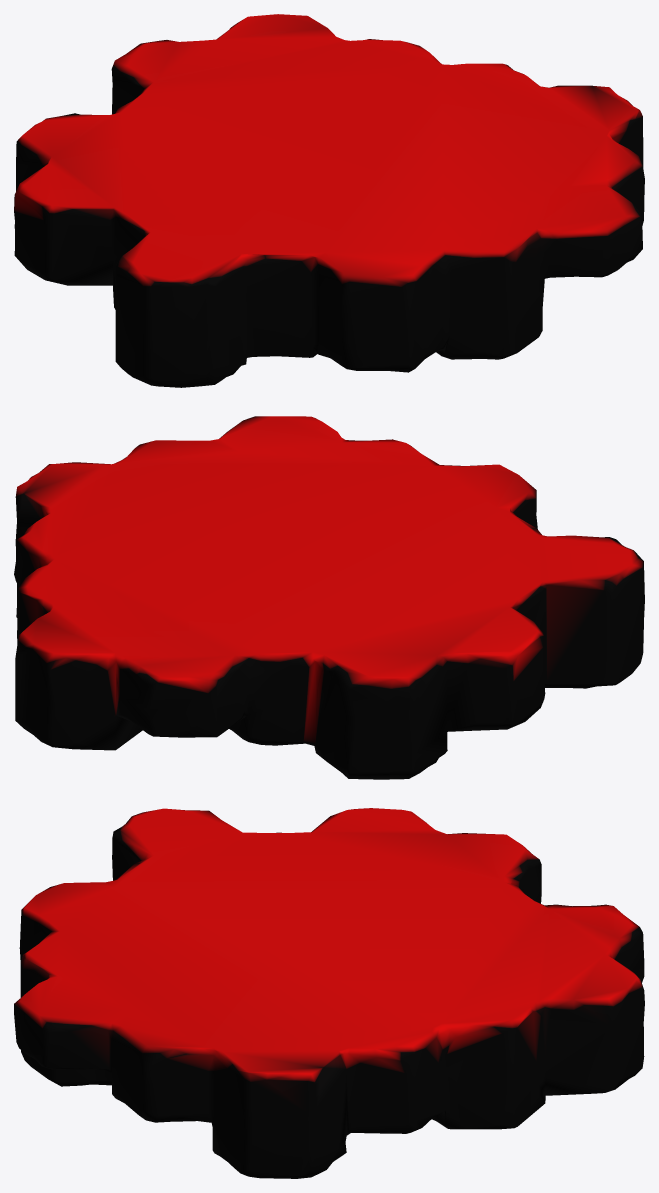
The model's file is SM_Cliff_4.FBX.
3 renders of one model, top to bottom at view 1: azimuth 30°, elevation 25°; view 2: azimuth 150°, elevation 25°; view 3: azimuth 270°, elevation 25°, orthographic.
Parts seen in each view (by area): view 1: SM_Cliff_4; view 2: SM_Cliff_4; view 3: SM_Cliff_4.
Boxes of the visible parts, left/top/right/bottom form: SM_Cliff_4: left=14, top=14, right=644, bottom=387; SM_Cliff_4: left=14, top=416, right=644, bottom=779; SM_Cliff_4: left=14, top=808, right=644, bottom=1178.
Bounding box in the file's own units: 947 × 941 × 200.
